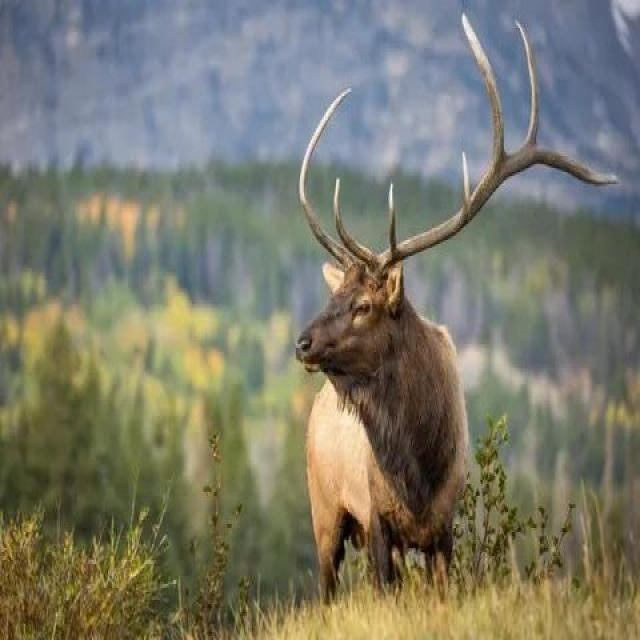deer: (254, 159, 536, 596)
